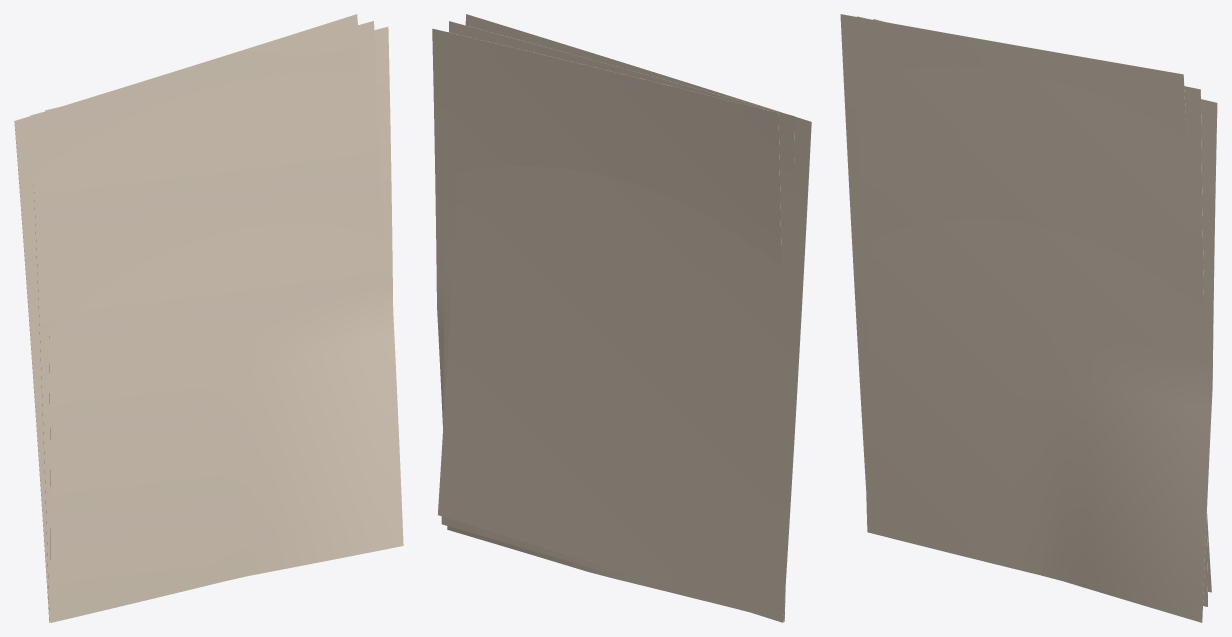
File: letterhead.glb
The picture shows the model from 3 angles, left to right: view 1: azimuth 30°, elevation 25°; view 2: azimuth 150°, elevation 25°; view 3: azimuth 330°, elevation 25°; orthographic projection.
Parts seen in each view (by area): view 1: letter_0, letter_1, letter_2; view 2: letter_2, letter_0, letter_1; view 3: letter_0, letter_1, letter_2.
Boxes of the visible parts, box(x1,y1,x2,y2) form: letter_0: box(45, 26, 403, 622); letter_1: box(30, 21, 382, 622); letter_2: box(14, 14, 361, 619); letter_2: box(438, 14, 811, 622); letter_0: box(432, 28, 781, 611); letter_1: box(441, 21, 794, 621); letter_0: box(867, 19, 1217, 622); letter_1: box(857, 16, 1207, 606); letter_2: box(840, 14, 1211, 592).
Bounding box in the file's own units: 0.2294 × 0.31 × 0.0161.
